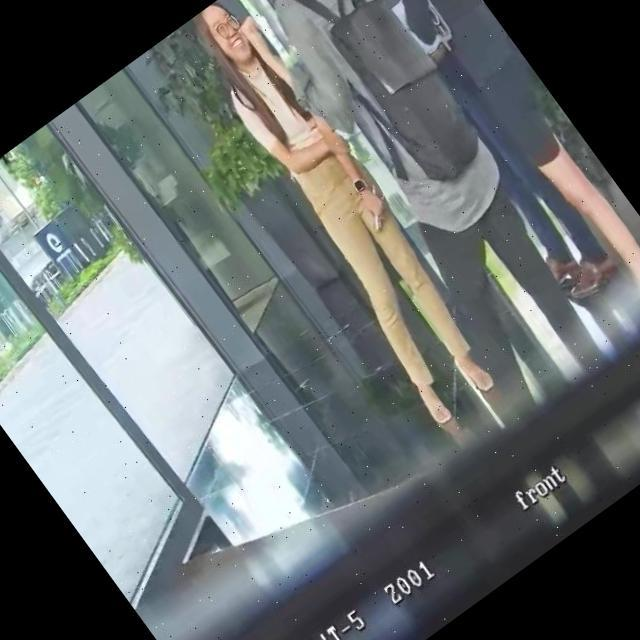person: (159, 0, 516, 429), (219, 0, 610, 381), (307, 0, 638, 319), (324, 0, 640, 333)
